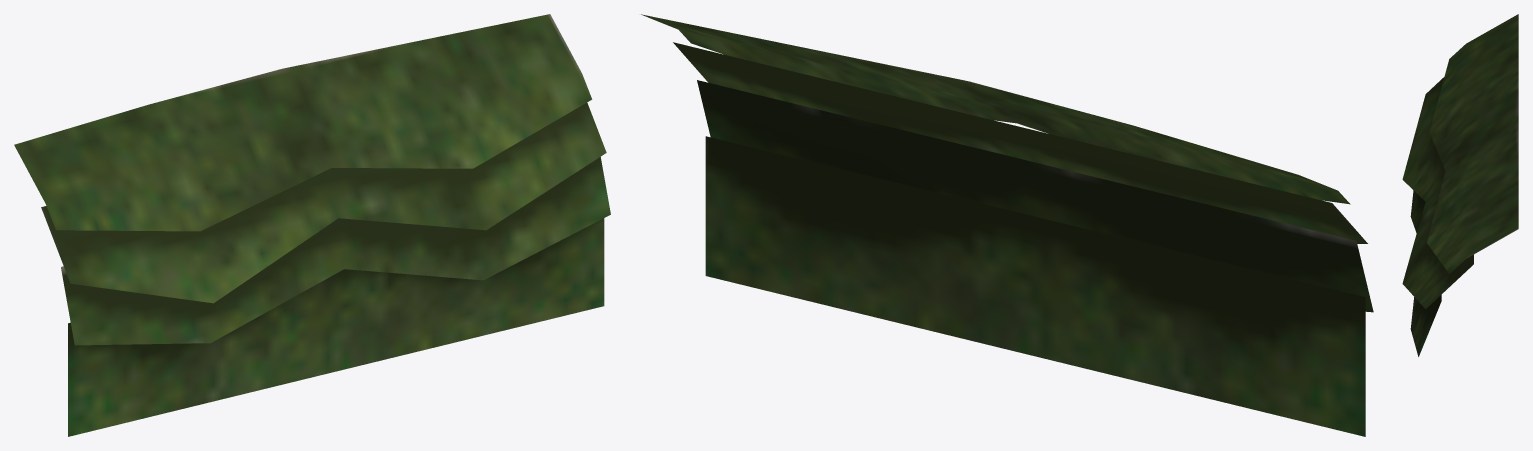
The model's file is walls_v001_bush.obj.
3 renders of one model, left to right at view 1: azimuth 30°, elevation 25°; view 2: azimuth 150°, elevation 25°; view 3: azimuth 270°, elevation 25°, orthographic. The views are drawn at different scales.
Visible parts, largest first — view 1: bush_low; view 2: bush_low; view 3: bush_low.
Boxes of the visible parts, x1=… form: bush_low: x1=14, y1=14, x2=610, y2=436; bush_low: x1=641, y1=14, x2=1373, y2=436; bush_low: x1=1402, y1=14, x2=1518, y2=356.
Size of the model in its own units: 5.4 by 2.54 by 1.23.
